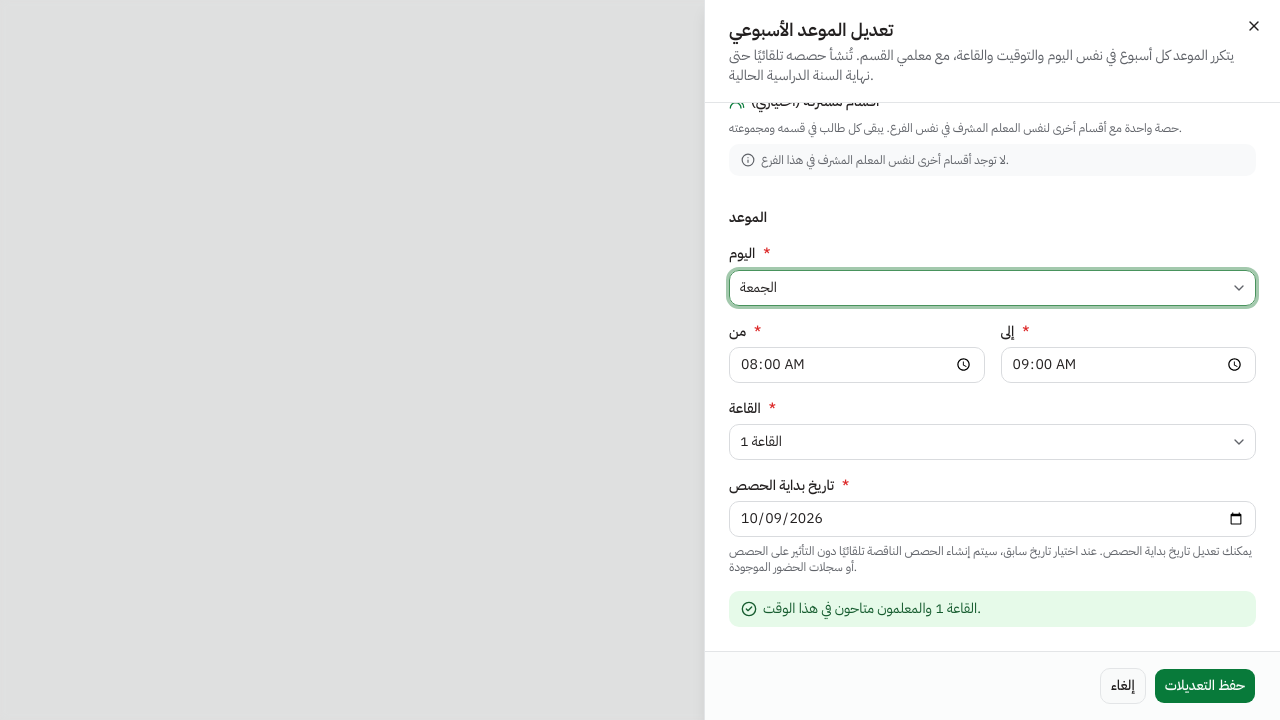
it: «تاريخ بداية الحصص» — editing a weekly slot › the API's refusal of a later date is shown in the form
(page scrolled)
Type "2026-10-21" into the date field labelled "تاريخ بداية الحصص *". click: x=992, y=519
box: [729,501,1256,537]
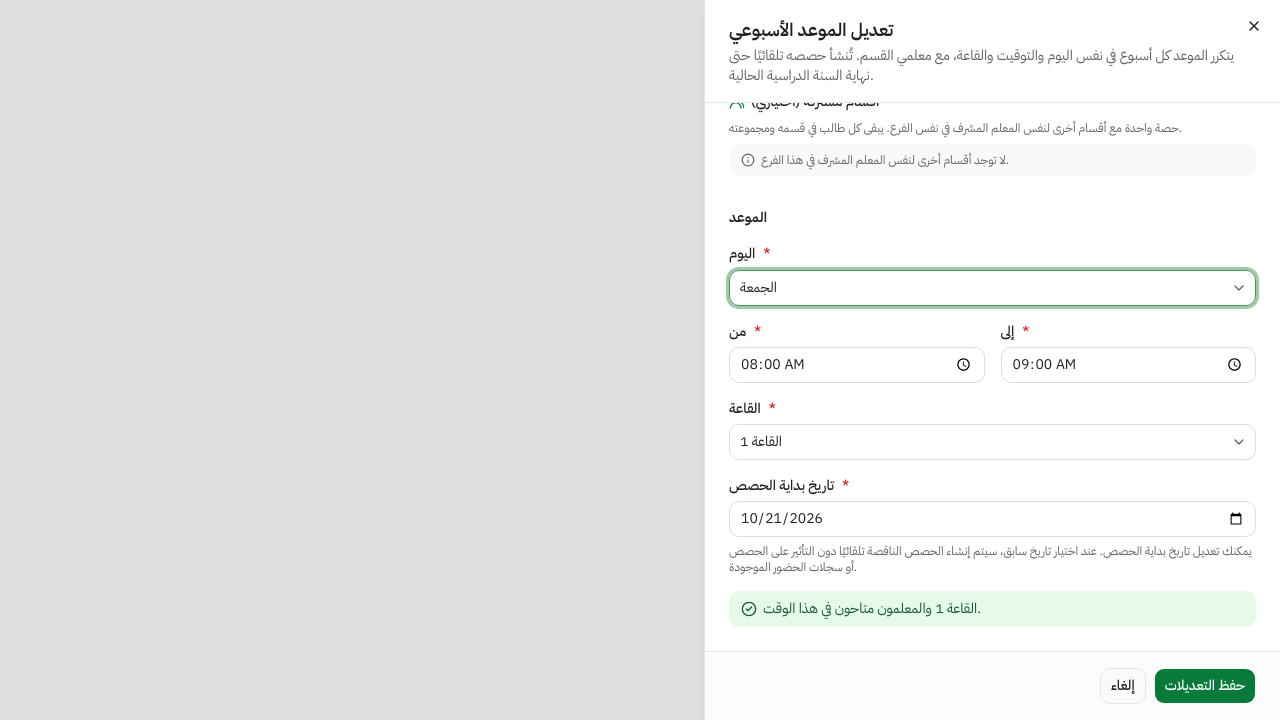
Click the button "حفظ التعديلات". click: x=1205, y=686
box: [1154,668,1256,704]
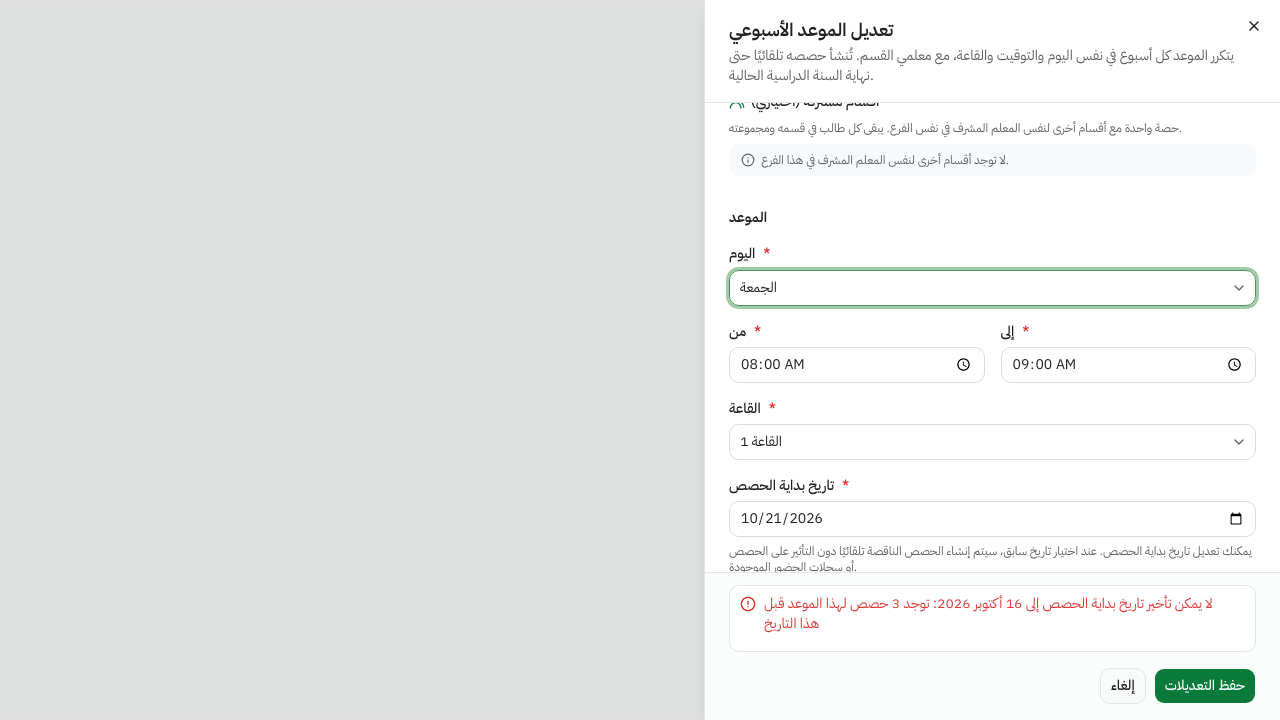
Result: the text "لا يمكن تأخير تاريخ بداية الحصص" is shown at [764,593,1213,634]
